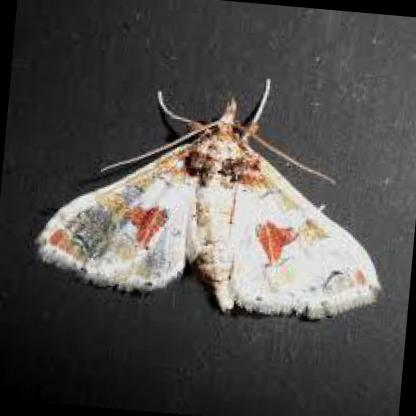leucinodes: (34, 107, 381, 321)
